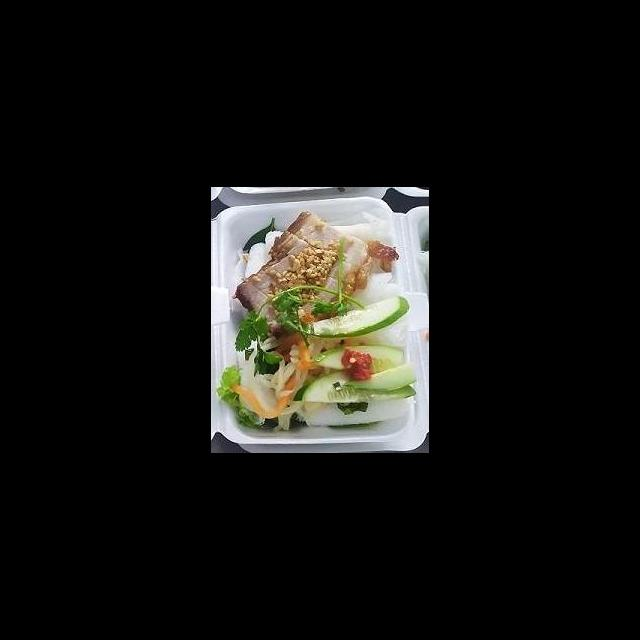banh hoi: (292, 392, 419, 429), (235, 329, 281, 419), (345, 268, 404, 313), (338, 316, 409, 352)
banh hoi heo quay: (221, 208, 429, 452)
dua chua: (270, 326, 330, 402)
thit heo quay: (230, 249, 357, 340), (284, 208, 373, 293), (265, 227, 365, 298)
